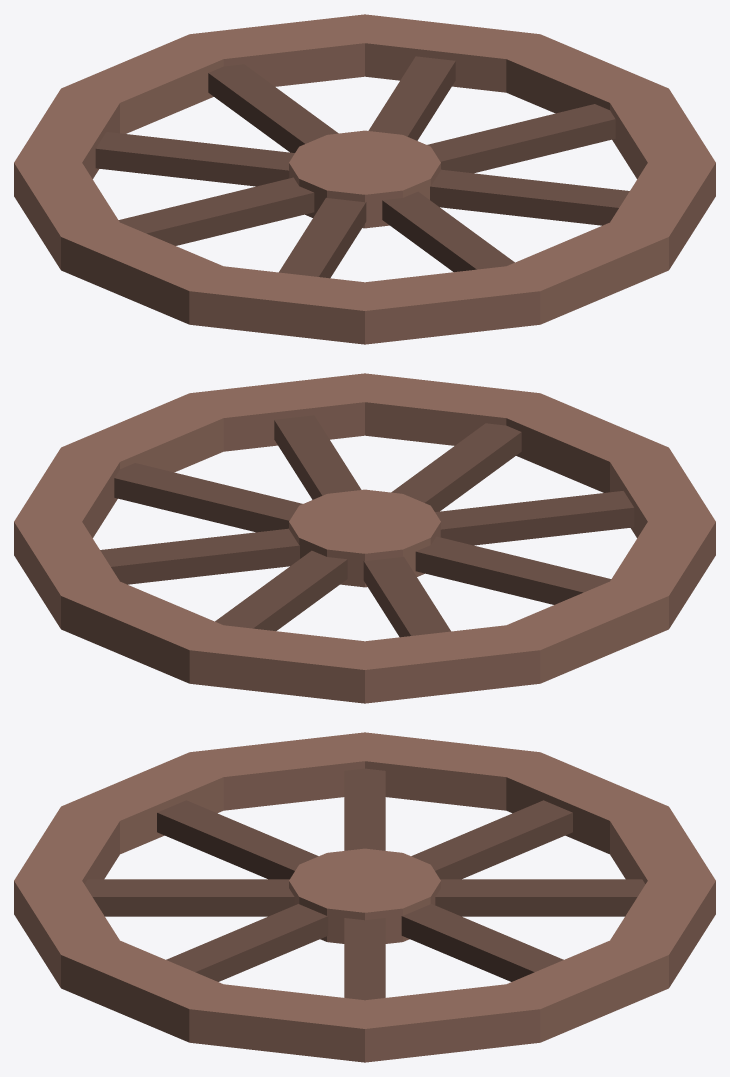
File: WoodenWheel_01.fbx
3 views of the same model, one above another, from view 1: azimuth 30°, elevation 25°; view 2: azimuth 150°, elevation 25°; view 3: azimuth 270°, elevation 25° (orthographic).
Visible parts, largest first — view 1: WoodenWheel_01; view 2: WoodenWheel_01; view 3: WoodenWheel_01.
Part boxes in pixels (x1,y1,x2,y2): WoodenWheel_01: [14, 14, 715, 344]; WoodenWheel_01: [14, 373, 715, 703]; WoodenWheel_01: [14, 732, 715, 1062].
Size of the model in its own units: 200 by 10.56 by 200.
